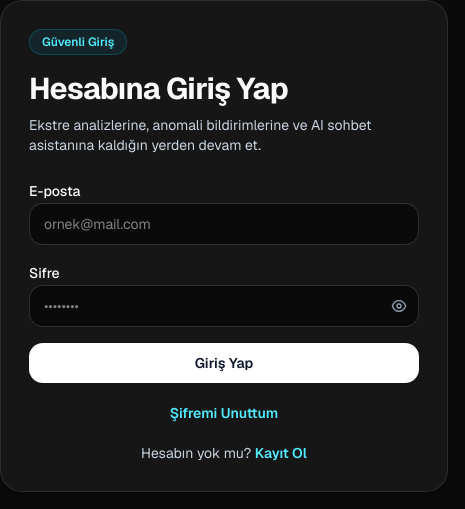
Scenario: LoginFormCard › lets the user toggle password visibility
This screenshot has width=465, height=509.
Click the button named "Şifreyi göster" at point(399, 306), box [379,285,419,327]
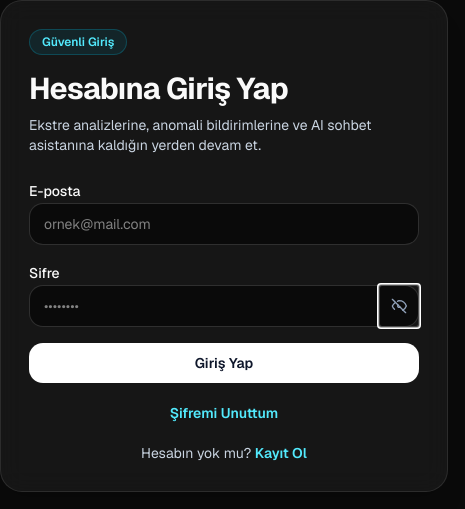
Result: the button named "Şifreyi gizle" is shown at [379,285,419,327]
